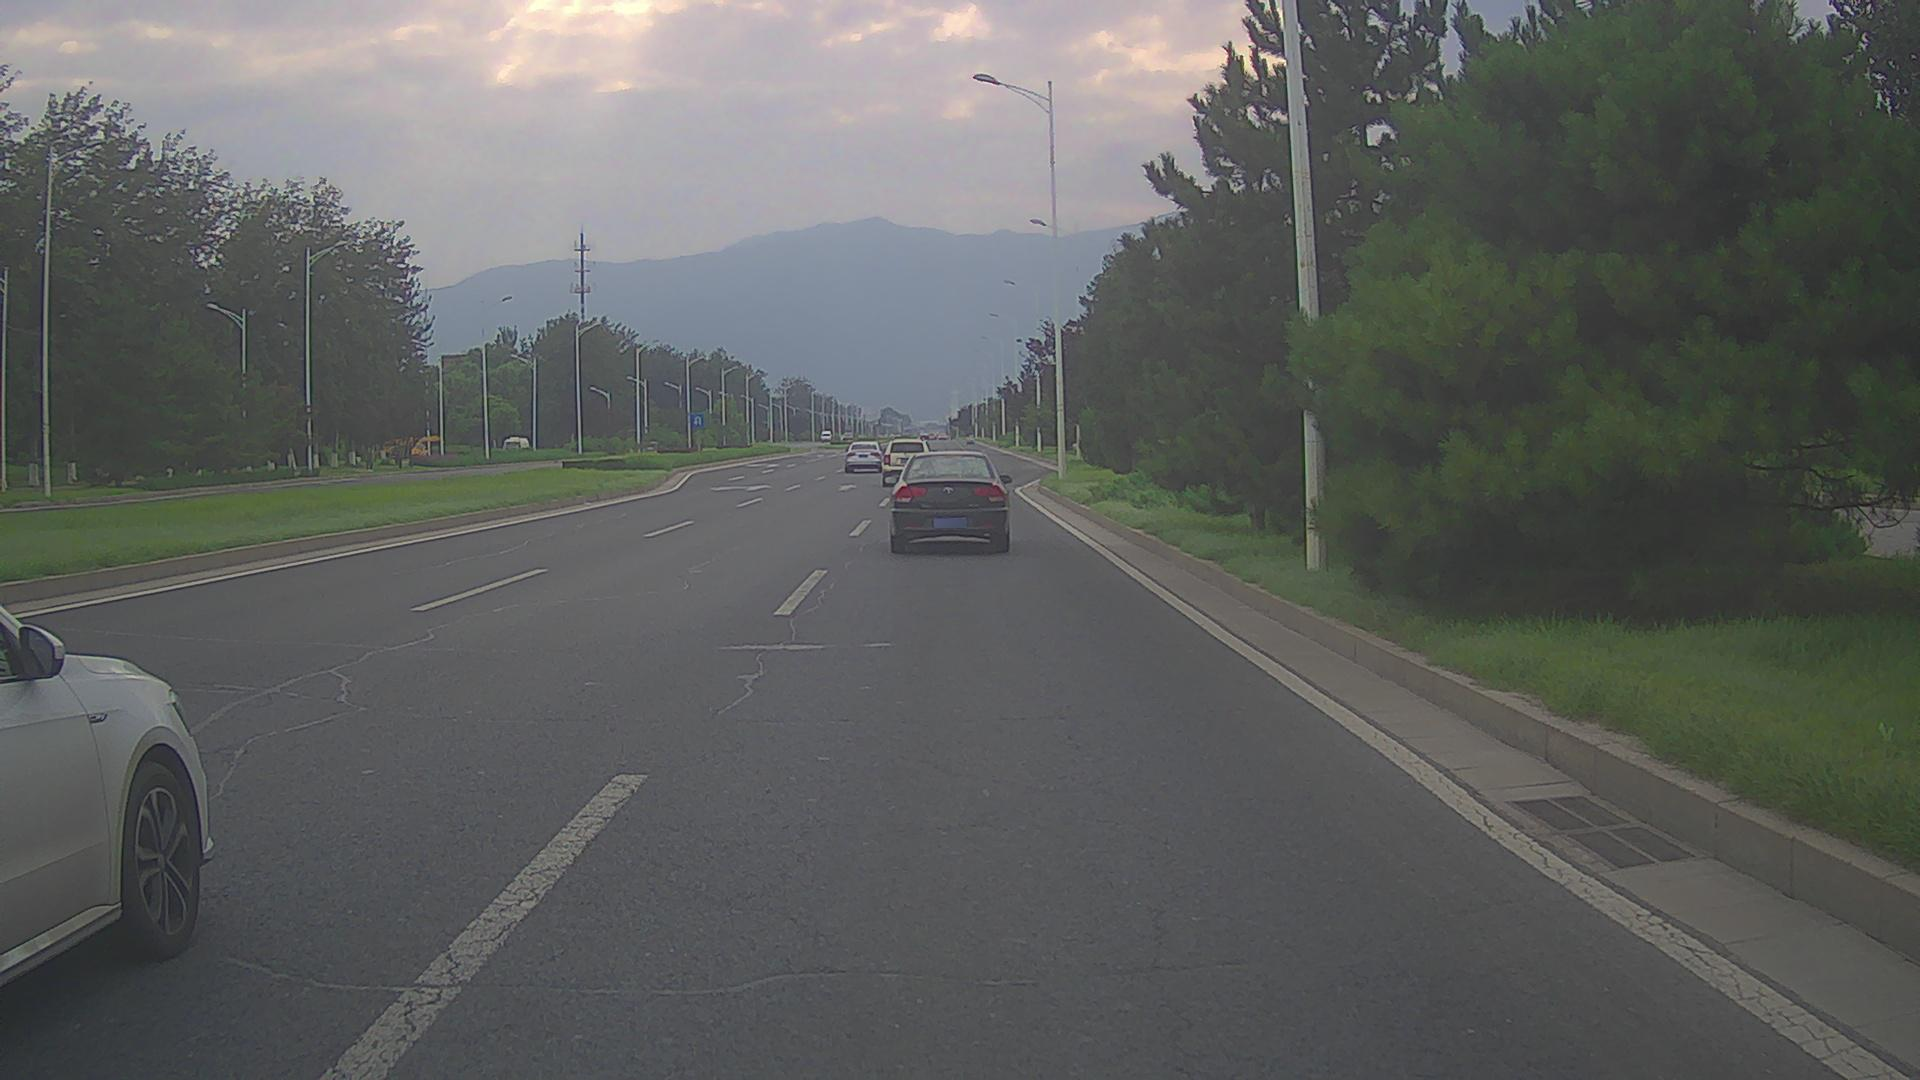car: (1, 611, 215, 986), (883, 451, 1012, 553), (882, 438, 929, 484), (845, 442, 881, 473)
ignore: (503, 436, 529, 448), (920, 433, 947, 441), (842, 431, 852, 439)
pedestrian: (364, 446, 372, 468), (392, 446, 400, 465)
tricyclelist: (965, 434, 975, 443)
truck: (383, 435, 442, 458)
van: (820, 430, 831, 441)
